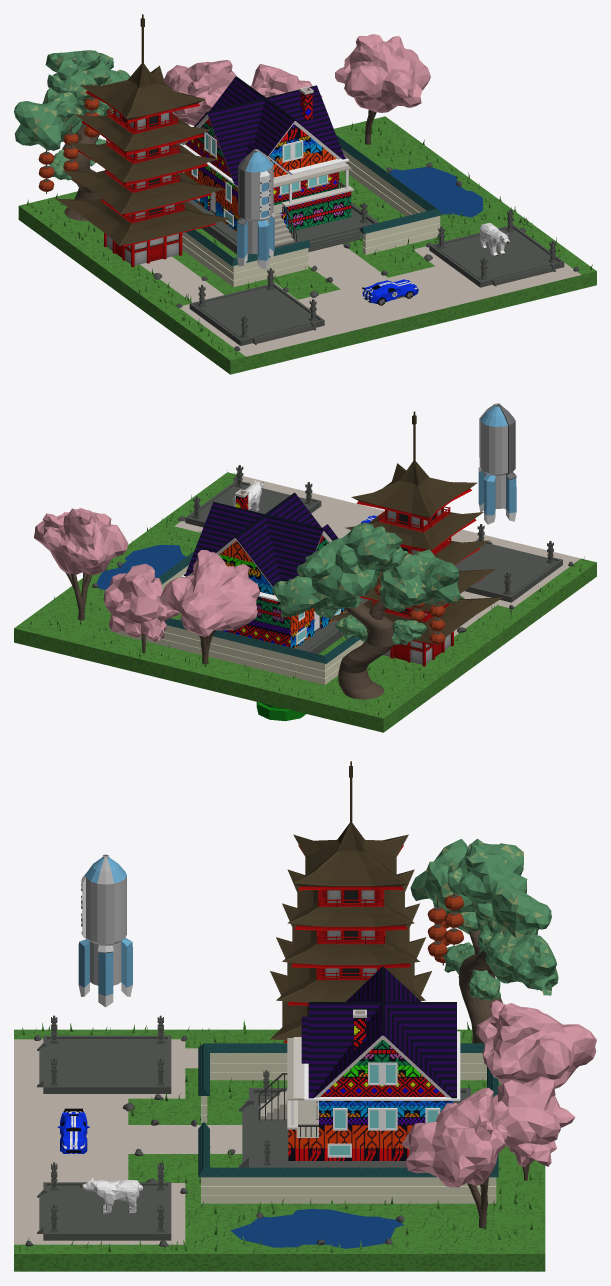
The picture shows the model from 3 angles, top to bottom: view 1: azimuth 30°, elevation 25°; view 2: azimuth 150°, elevation 25°; view 3: azimuth 270°, elevation 25°; orthographic projection. The views are drawn at different scales.
Parts seen in each view (by area): view 1: Cube.005, Cube.966, OBJRANDOM_ROCKETSHIP, VEHICLES_RACING_CAR, ANIMAL_OSO_POLAR; view 2: Cube.005, Cube.966, OBJRANDOM_ROCKETSHIP, UNDERGROUND_PIPES; view 3: Cube.005, Cube.966, OBJRANDOM_ROCKETSHIP, ANIMAL_OSO_POLAR, VEHICLES_RACING_CAR.
Part boxes in pixels (bbox=[...]): Cube.005: bbox=[14, 14, 596, 374]; Cube.966: bbox=[178, 76, 353, 246]; OBJRANDOM_ROCKETSHIP: bbox=[236, 149, 274, 269]; VEHICLES_RACING_CAR: bbox=[362, 279, 418, 305]; ANIMAL_OSO_POLAR: bbox=[479, 222, 509, 256]; Cube.005: bbox=[14, 411, 596, 732]; Cube.966: bbox=[181, 489, 346, 648]; OBJRANDOM_ROCKETSHIP: bbox=[478, 403, 516, 524]; UNDERGROUND_PIPES: bbox=[256, 702, 305, 721]; Cube.005: bbox=[14, 761, 596, 1271]; Cube.966: bbox=[258, 966, 460, 1160]; OBJRANDOM_ROCKETSHIP: bbox=[78, 854, 132, 1007]; ANIMAL_OSO_POLAR: bbox=[80, 1178, 142, 1213]; VEHICLES_RACING_CAR: bbox=[57, 1108, 89, 1153].
Size of the model in its own units: 4528 by 3273 by 4389.
Materials: 45 (9 with a texture image).
